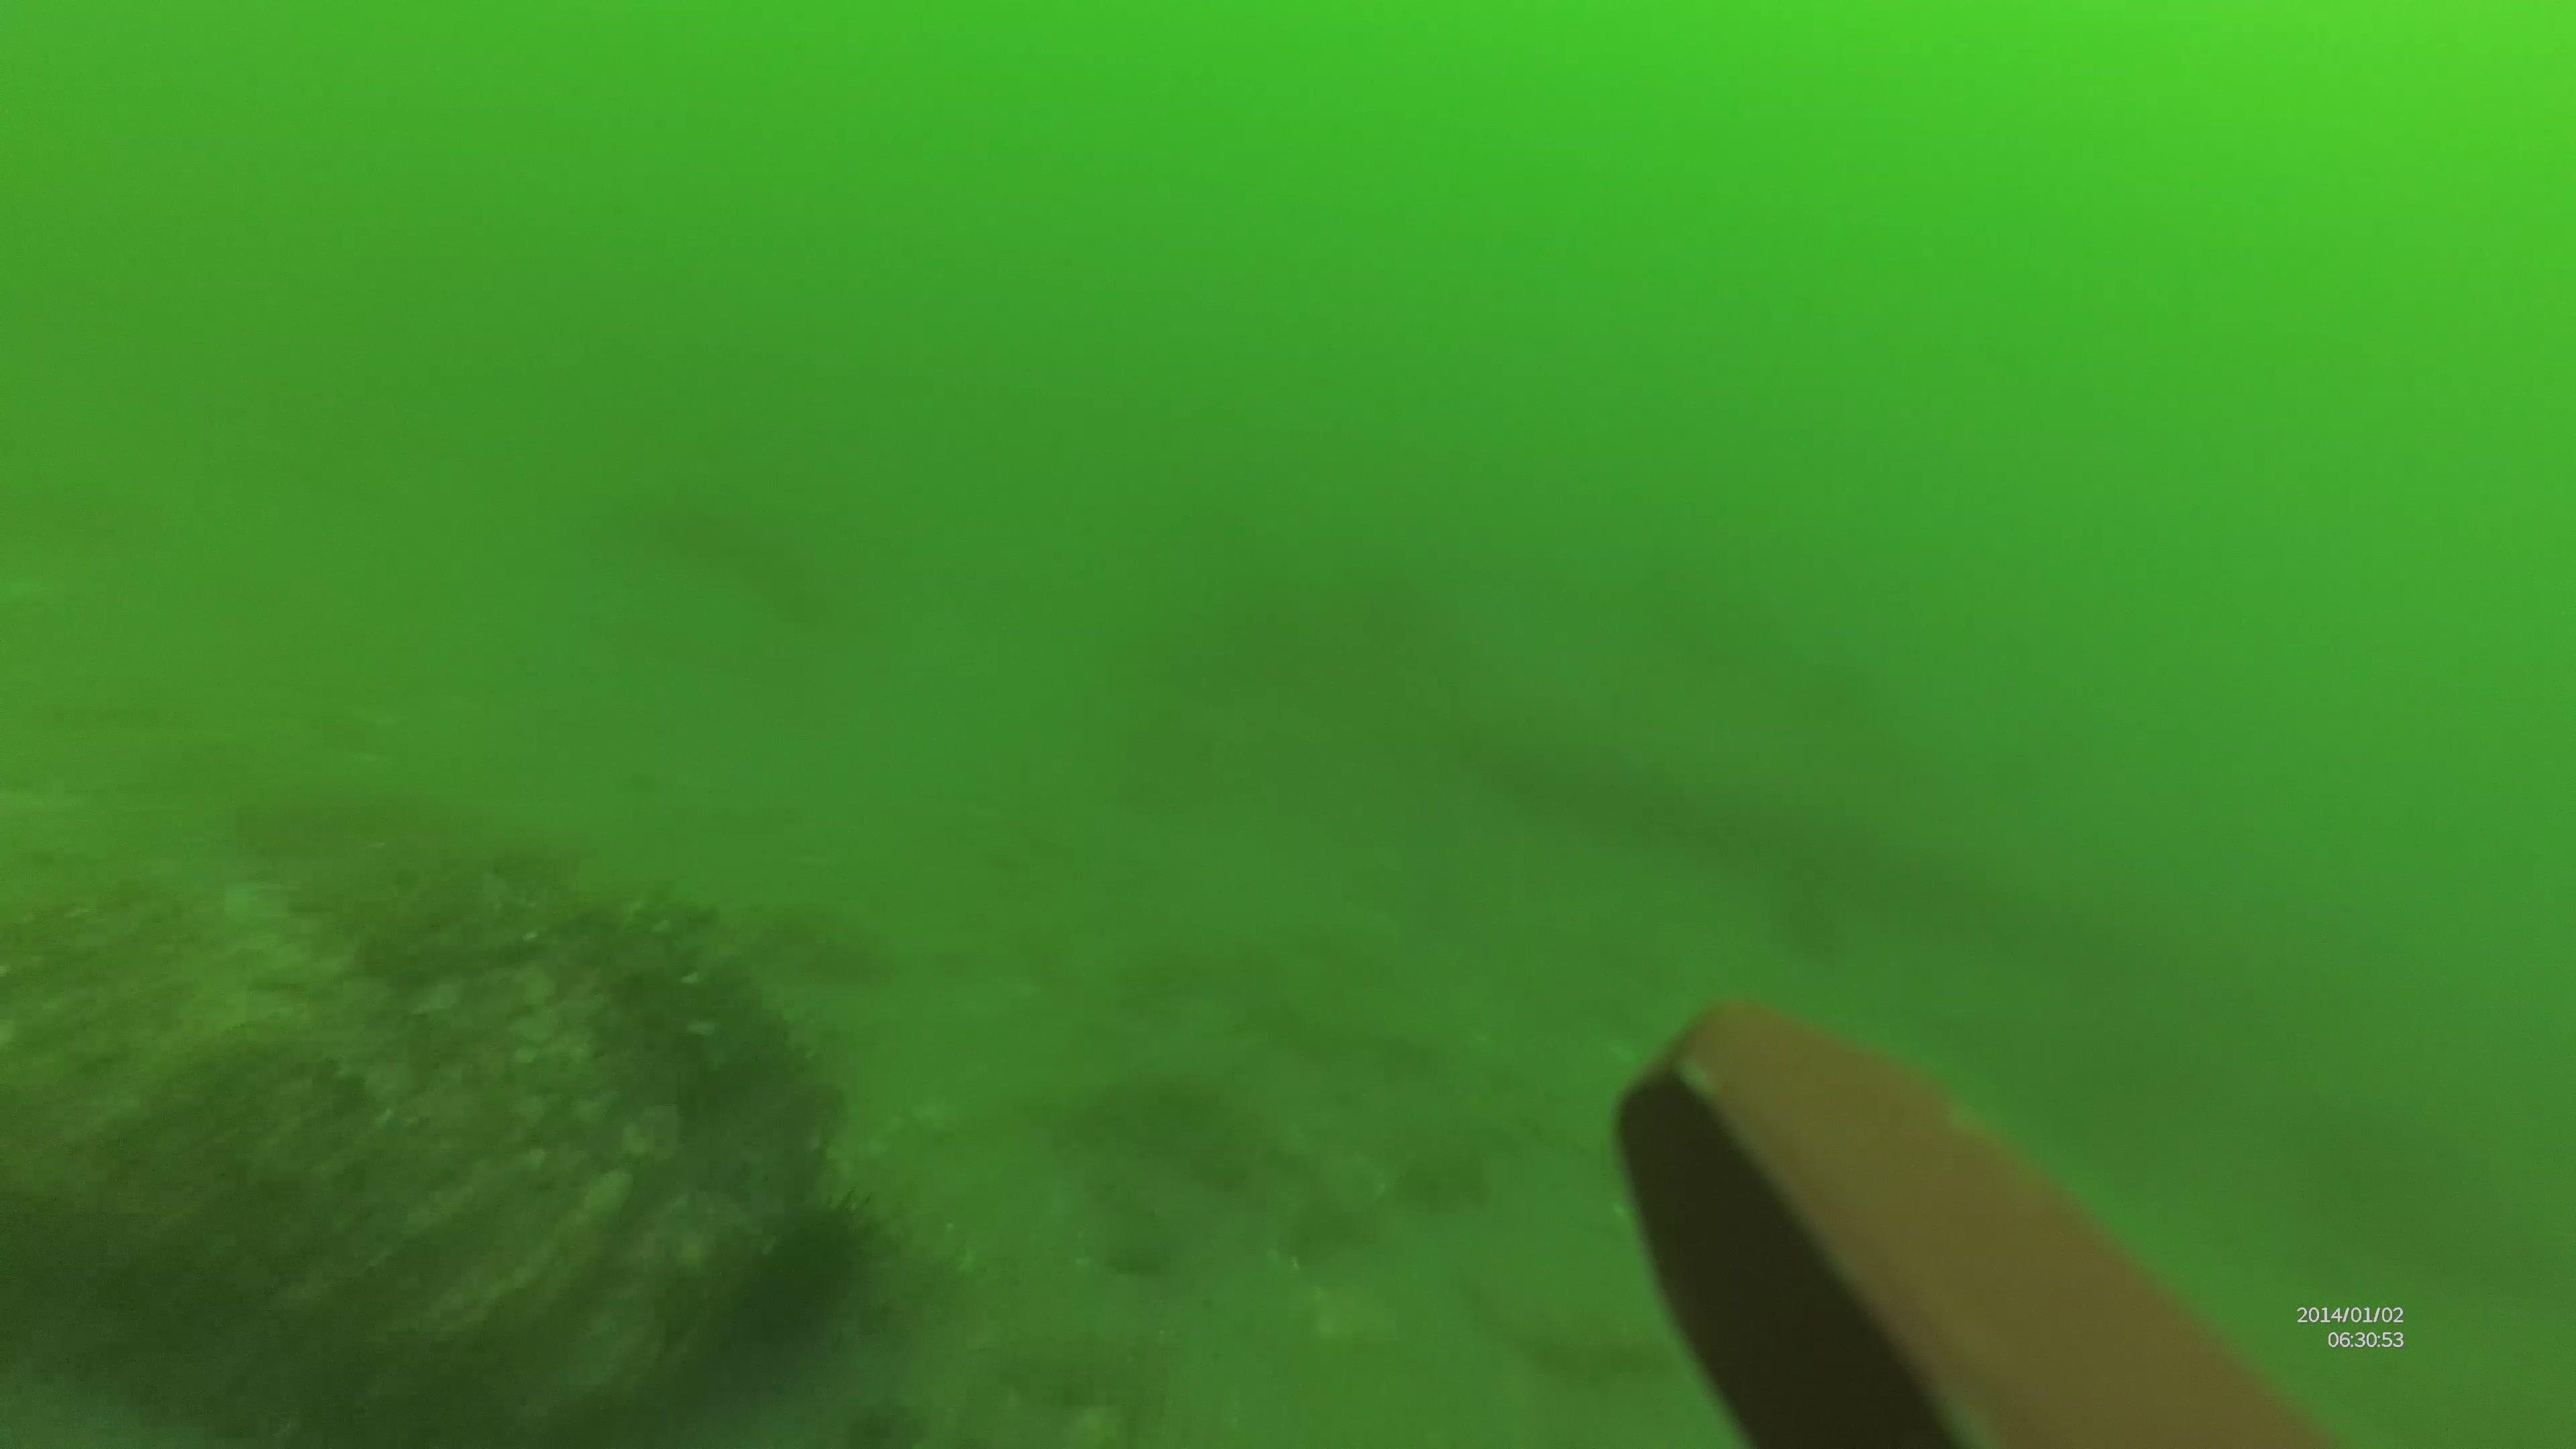echinus: (750, 1175, 881, 1341)
holothurian: (637, 885, 771, 1074)
